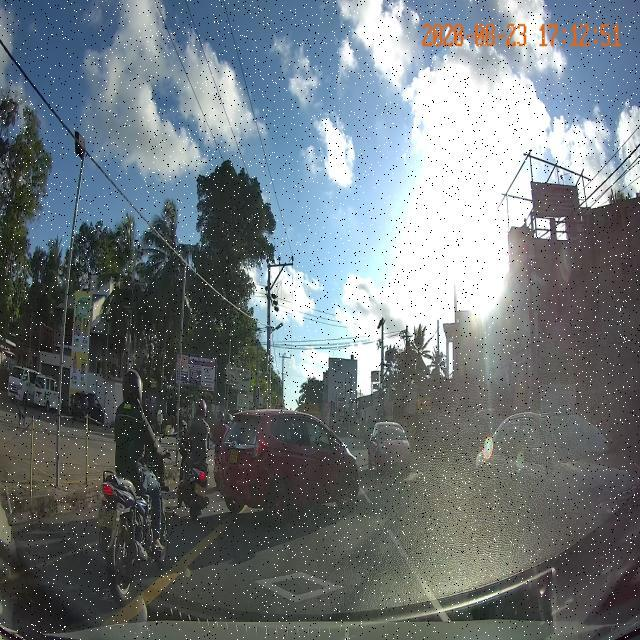diamond: (111, 550, 443, 608)
